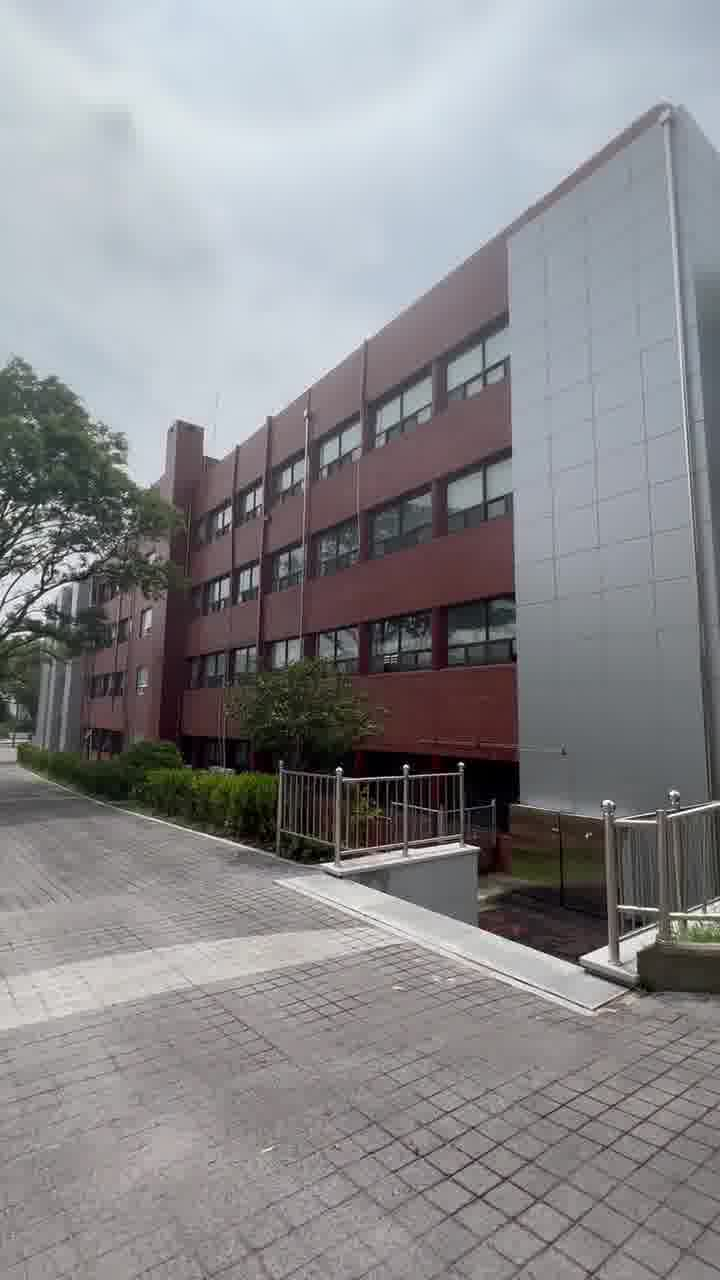low: (146, 280, 720, 748)
